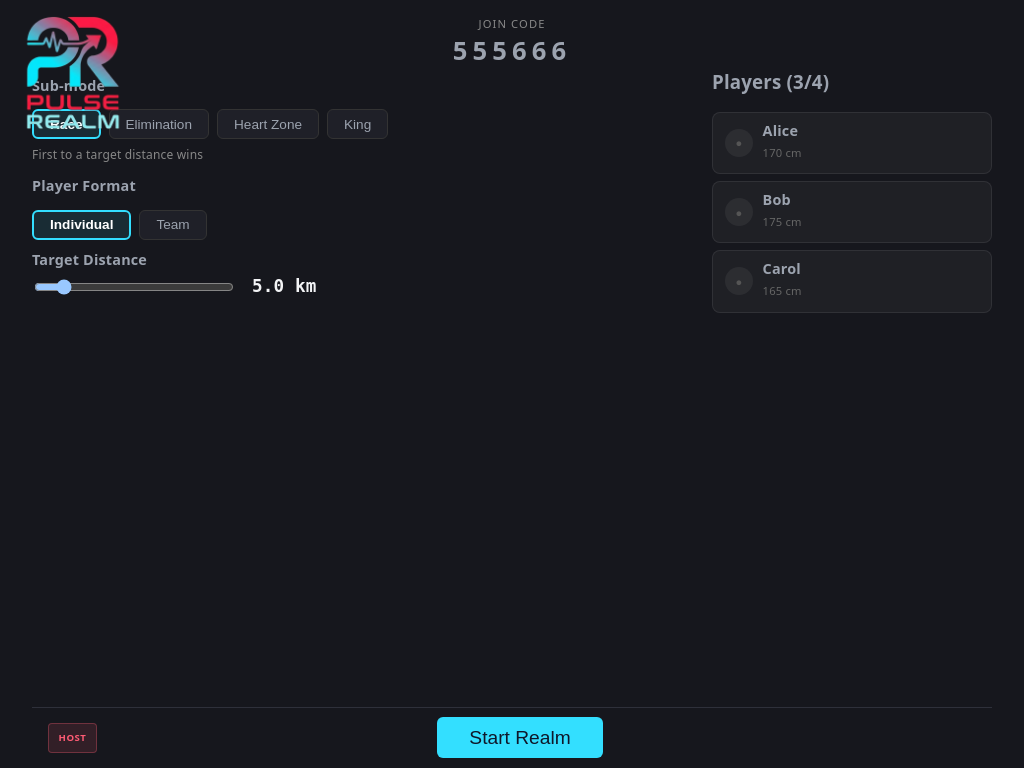
Scenario: CompetitionLobby › sub-mode selector › can switch to Heart Zone sub-mode
What coordinates should you click on to do the following:
click the button "Heart Zone"
I would click on:
 (268, 124)
Its box is [217,109,319,139].
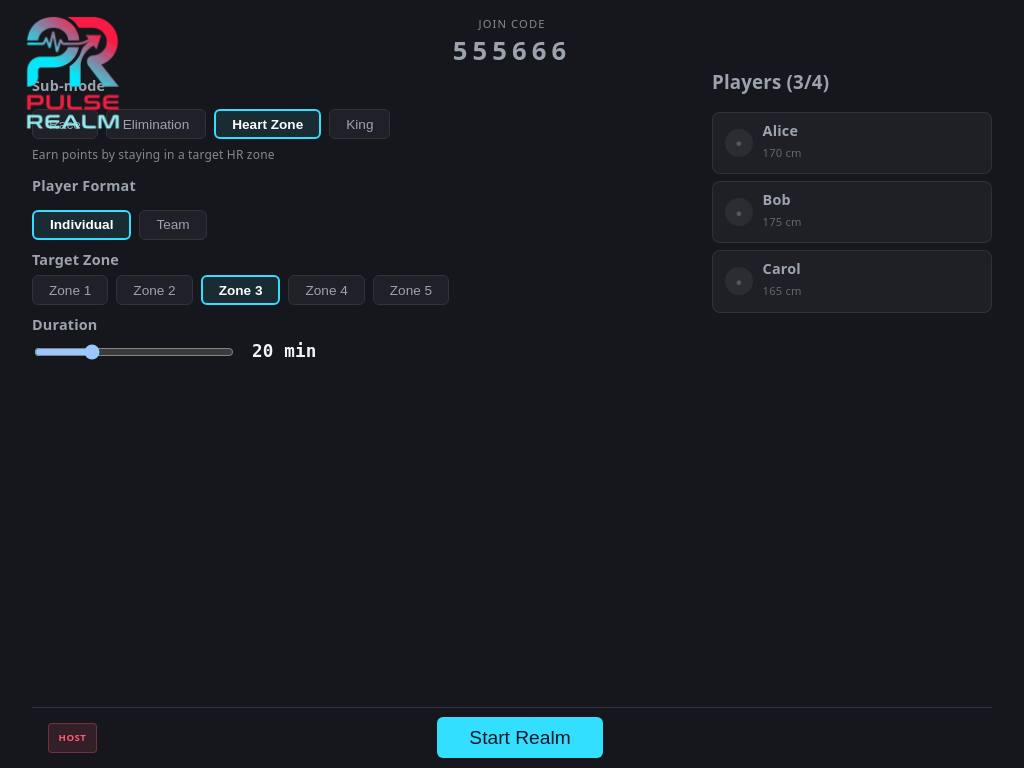
Expected: the heading "Target Zone" is shown, [32,250,119,269]
